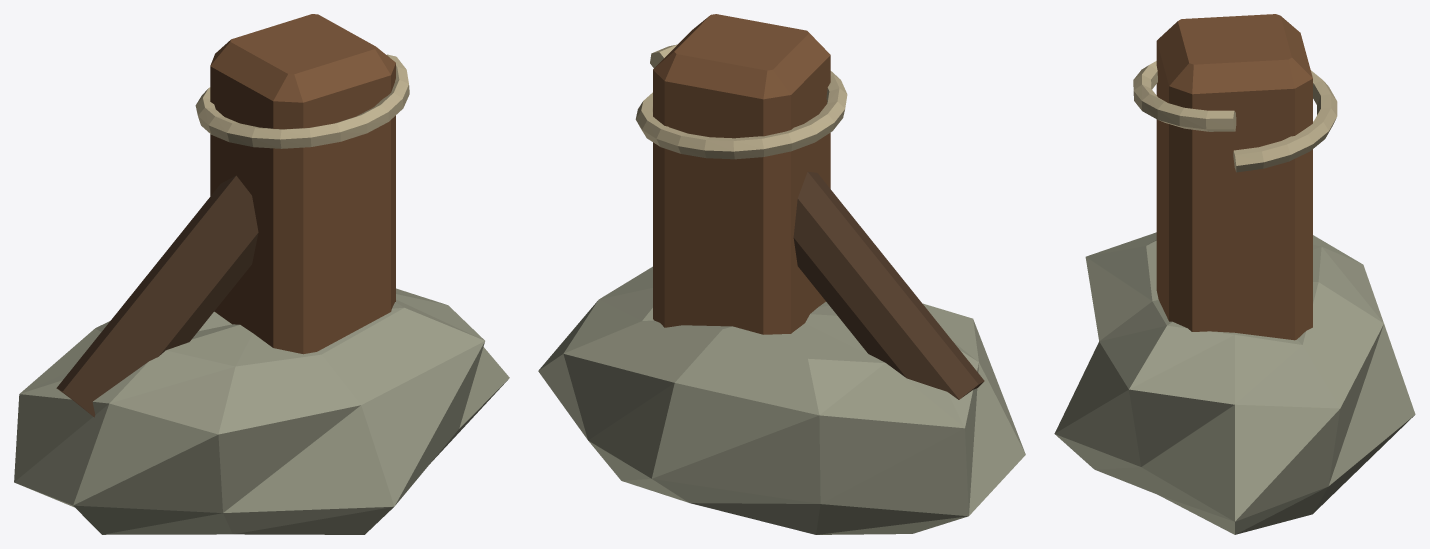
Rendered from BridgeAnchor.glb.
The picture shows the model from 3 angles, left to right: view 1: azimuth 30°, elevation 25°; view 2: azimuth 150°, elevation 25°; view 3: azimuth 270°, elevation 25°; orthographic projection.
Visible parts, largest first — view 1: BridgeAnchor; view 2: BridgeAnchor; view 3: BridgeAnchor.
Part boxes in pixels (x1,y1,x2,y2): BridgeAnchor: (14,14,509,534); BridgeAnchor: (538,14,1025,534); BridgeAnchor: (1054,14,1415,534).
Size of the model in its own units: 0.95 by 0.85 by 0.64.
